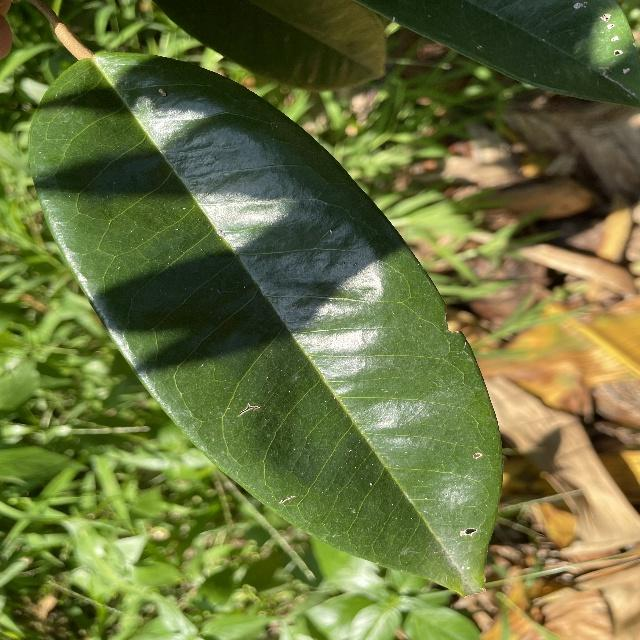No Disease: (19, 41, 513, 605)
